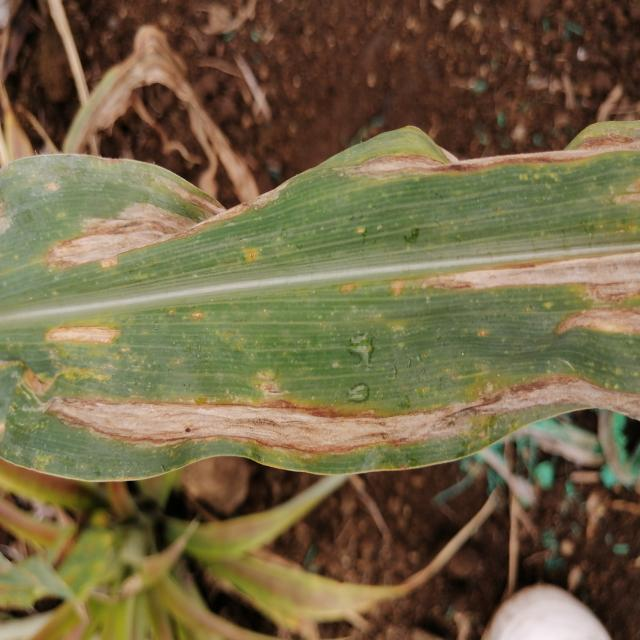Corn_Leaf_Blight: (8, 144, 640, 482)
